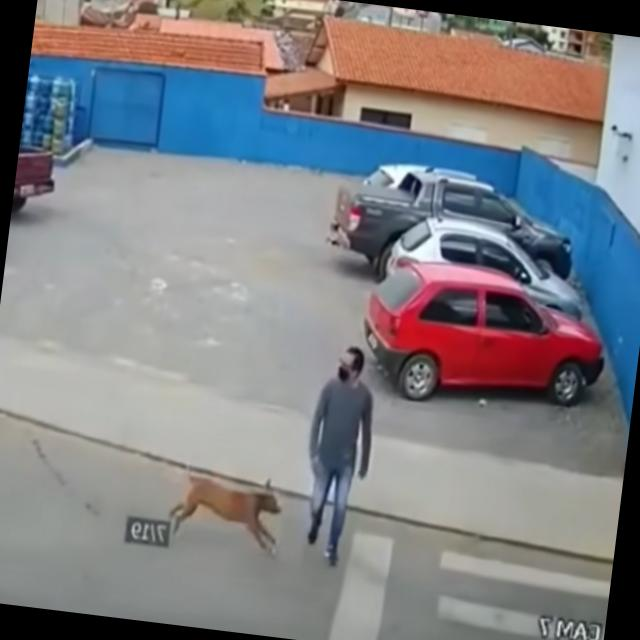person: (293, 342, 384, 566)
